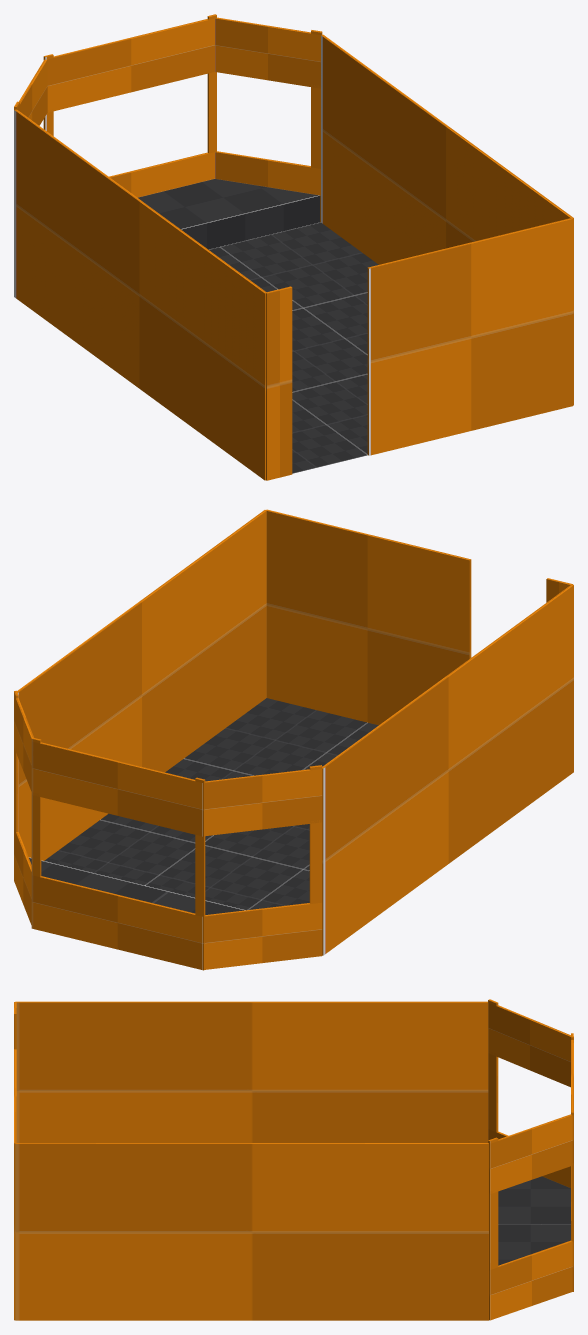
Rendered from B2_Dormroom_Static.glb.
The picture shows the model from 3 angles, top to bottom: view 1: azimuth 30°, elevation 25°; view 2: azimuth 150°, elevation 25°; view 3: azimuth 270°, elevation 25°; orthographic projection. The views are drawn at different scales.
Parts seen in each view (by area): view 1: B2Wall.027, B2Wall.023, B2Wall.024, B2Window.001, B2Floor, B2WindowFloor, B2Wall.022; view 2: B2Wall.027, B2Wall.024, B2Window.001, B2Wall.023, B2Floor, B2WindowFloor; view 3: B2Wall.024, B2Wall.027, B2Window.001, B2WindowFloor, B2Wall.023.
Part boxes in pixels (x1,y1,x2,y2): B2Wall.027: [14, 109, 266, 480]; B2Wall.023: [367, 218, 573, 455]; B2Wall.024: [321, 34, 573, 405]; B2Window.001: [14, 14, 322, 222]; B2Floor: [209, 222, 378, 473]; B2WindowFloor: [138, 179, 320, 249]; B2Wall.022: [266, 286, 292, 480]; B2Wall.027: [322, 585, 573, 955]; B2Wall.024: [17, 510, 266, 860]; B2Window.001: [14, 690, 322, 970]; B2Wall.023: [265, 509, 471, 725]; B2Floor: [44, 698, 378, 910]; B2WindowFloor: [29, 857, 245, 914]; B2Wall.024: [15, 1143, 488, 1320]; B2Wall.027: [15, 1001, 488, 1142]; B2Window.001: [488, 999, 573, 1320]; B2WindowFloor: [498, 1176, 570, 1265]; B2Wall.023: [14, 1049, 16, 1320].
Size of the model in its own units: 7.71 by 4.53 by 12.81.
2 materials, 2 textured.
